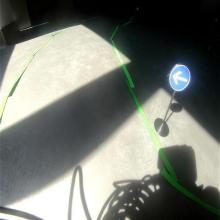left: (170, 63, 190, 91)
